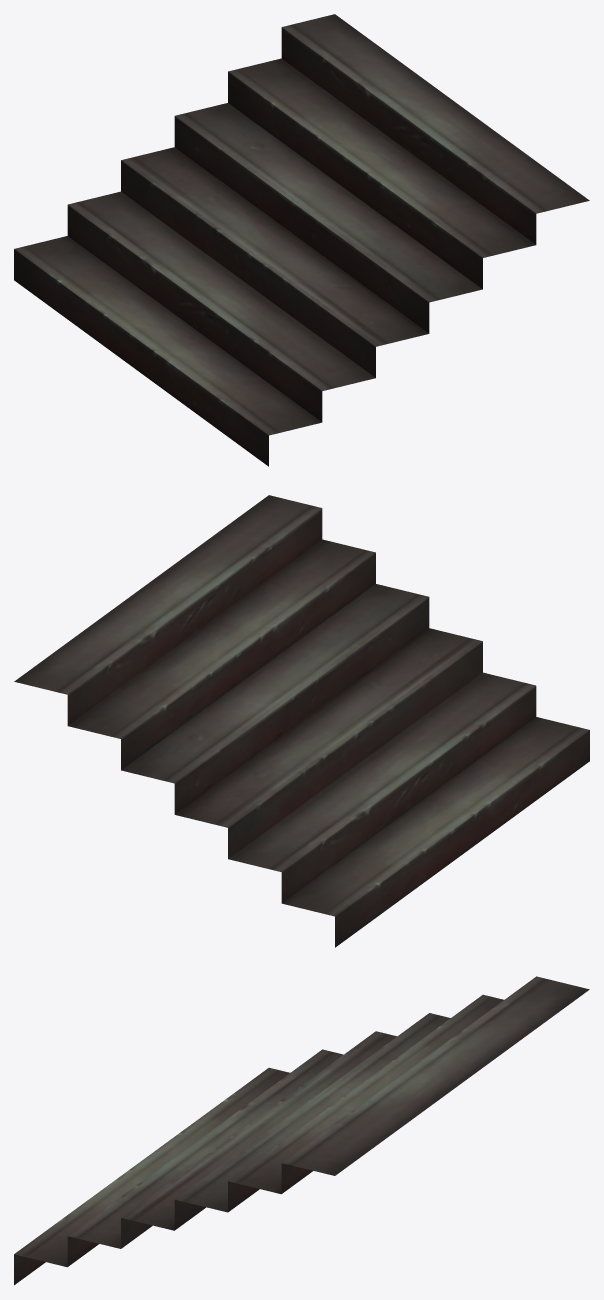
The model's file is sn_jixie_taijie_001.FBX.
The picture shows the model from 3 angles, top to bottom: view 1: azimuth 30°, elevation 25°; view 2: azimuth 150°, elevation 25°; view 3: azimuth 330°, elevation 25°; orthographic projection.
Parts seen in each view (by area): view 1: sn_jixie_taijie_001; view 2: sn_jixie_taijie_001; view 3: sn_jixie_taijie_001.
Part boxes in pixels (x1,y1,x2,y2): sn_jixie_taijie_001: (14,14,589,466); sn_jixie_taijie_001: (14,495,589,947); sn_jixie_taijie_001: (14,976,589,1285).
Bounding box in the file's own units: 12.25 × 16.85 × 6.85.
